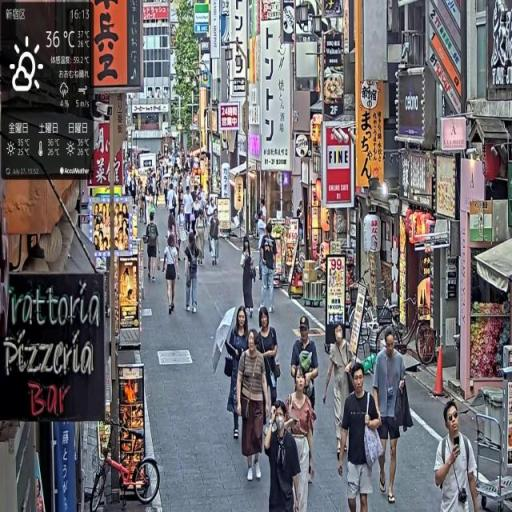person: (371, 329, 413, 506), (338, 361, 387, 512), (236, 328, 273, 487), (435, 400, 483, 512), (283, 365, 317, 512), (323, 323, 357, 463), (264, 400, 303, 512), (225, 305, 252, 443), (255, 308, 281, 431), (240, 237, 259, 325), (184, 232, 203, 316), (164, 230, 181, 315), (145, 213, 161, 284), (209, 208, 222, 269), (184, 187, 194, 236)
